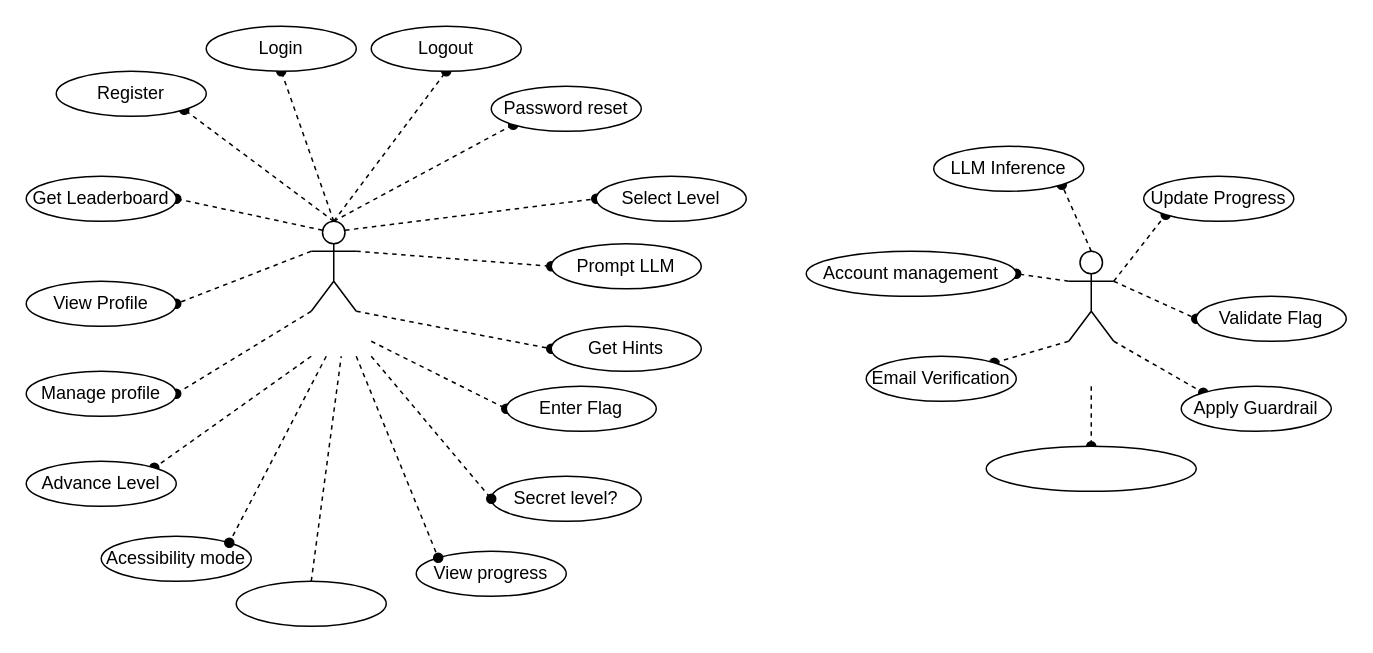
The diagram is 1373 pixels wide and 653 high, and some of its shapes have lost their labels. Each missing label, with the centre of its shape:
"Generate Leaderboard" belongs at (1090,468).
"Player" belongs at (333,265).
"System" belongs at (1090,295).
"Toggle sound" belongs at (310,603).
